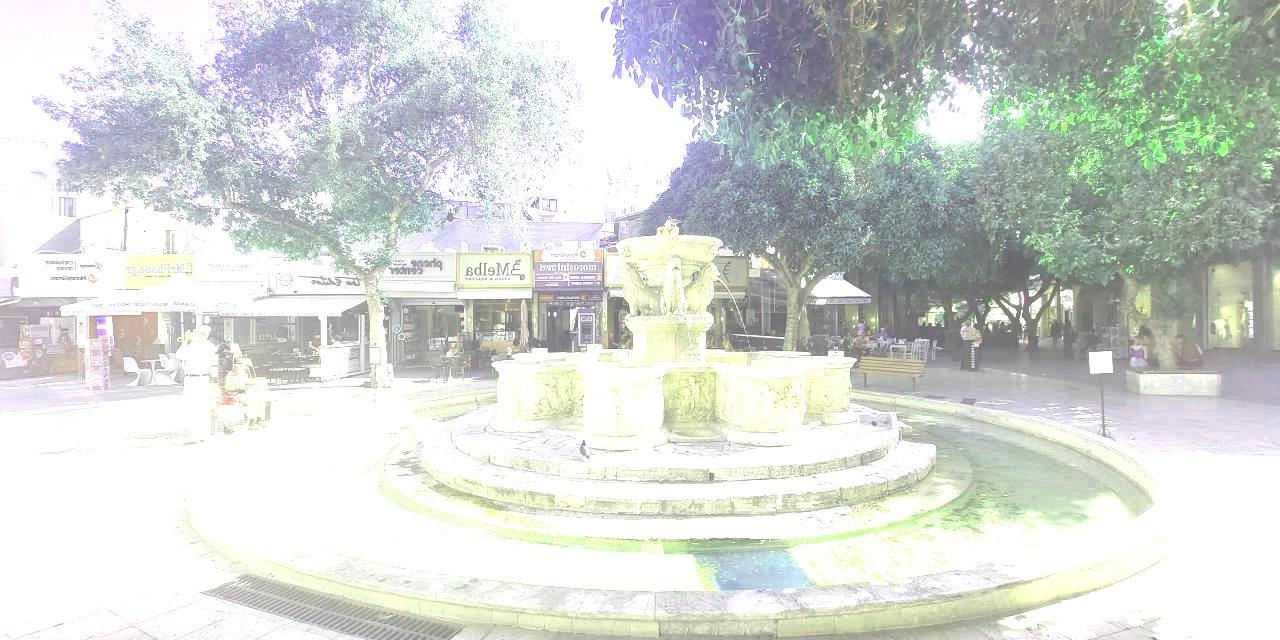Liontaria: (498, 228, 850, 452)
